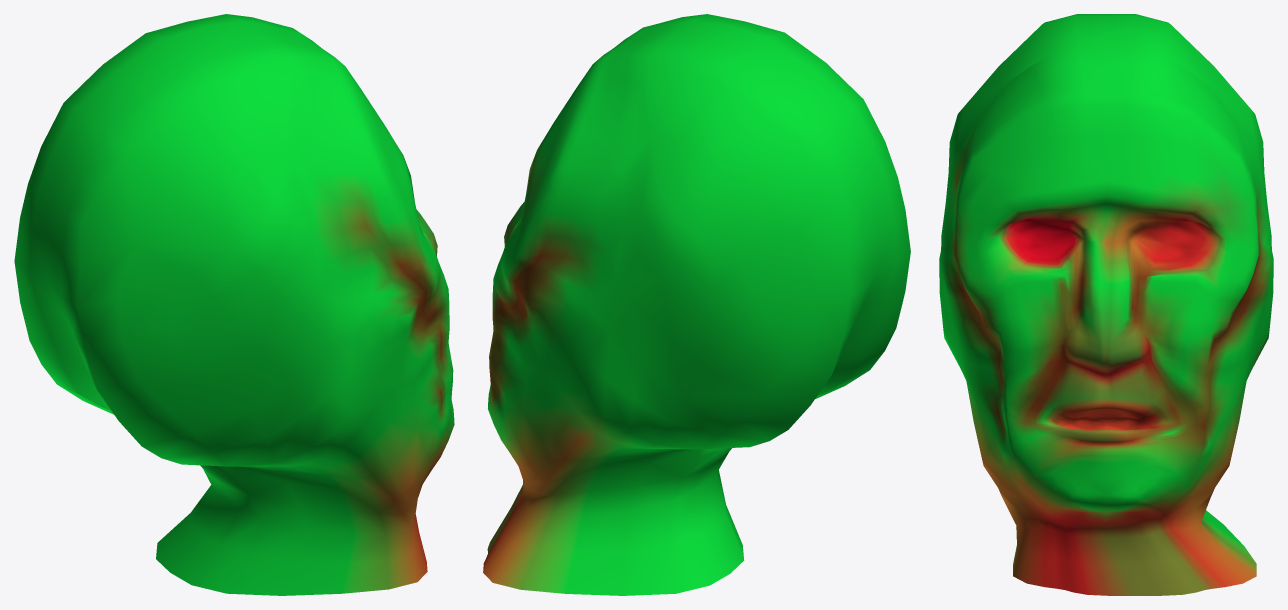
Rendered from StatueHead1.fbx.
3 renders of one model, left to right at view 1: azimuth 30°, elevation 25°; view 2: azimuth 150°, elevation 25°; view 3: azimuth 270°, elevation 25°, orthographic. The views are drawn at different scales.
Parts seen in each view (by area): view 1: Man.001; view 2: Man.001; view 3: Man.001.
Boxes of the visible parts, left/top/right/bottom form: Man.001: left=14, top=14, right=454, bottom=595; Man.001: left=483, top=14, right=910, bottom=595; Man.001: left=939, top=14, right=1273, bottom=595.
Bounding box in the file's own units: 139 × 182 × 114.
